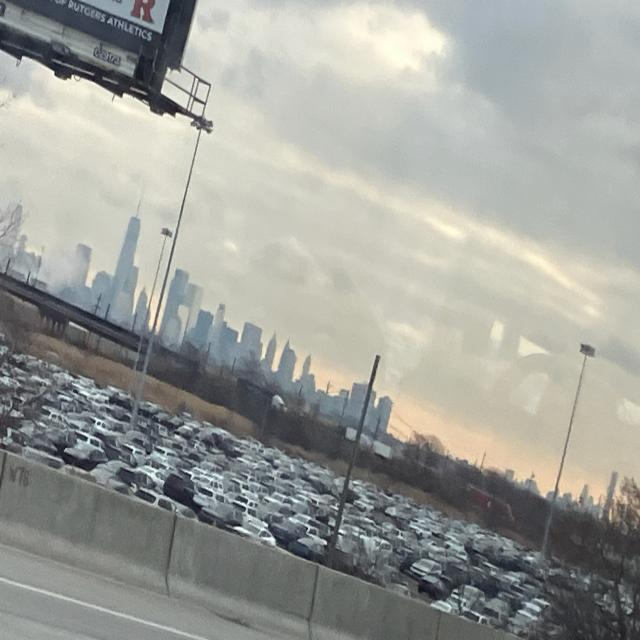WTC: (115, 186, 150, 280)
